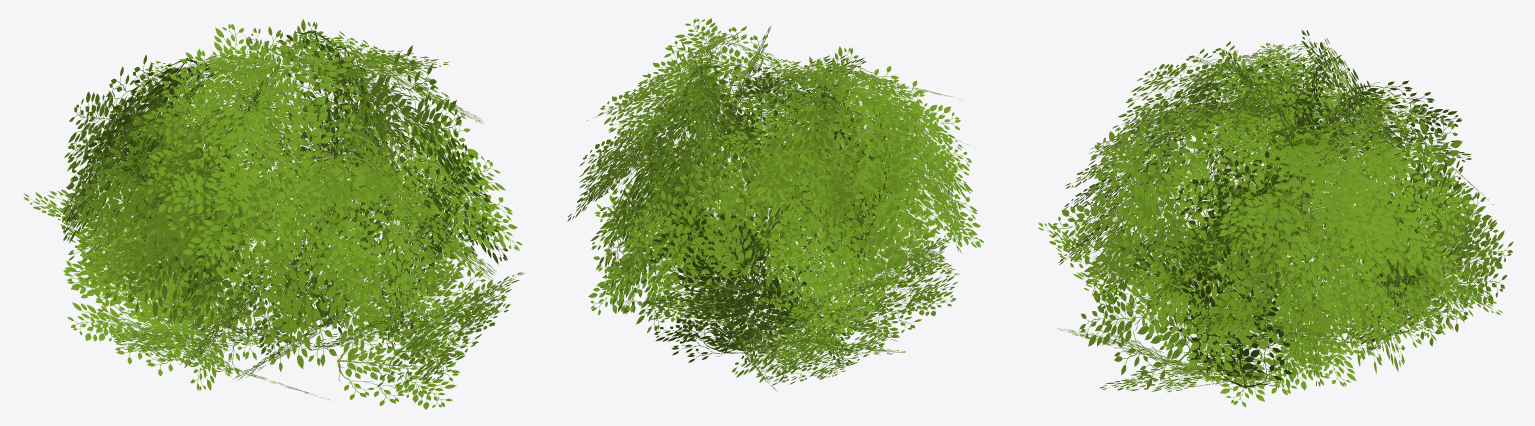
Rendered from cliff_shrub.glb.
3 renders of one model, left to right at view 1: azimuth 30°, elevation 25°; view 2: azimuth 150°, elevation 25°; view 3: azimuth 270°, elevation 25°, orthographic. The views are drawn at different scales.
Parts seen in each view (by area): view 1: leaves_gbushy_0; view 2: leaves_gbushy_0; view 3: leaves_gbushy_0.
Part boxes in pixels (x1,y1,x2,y2): leaves_gbushy_0: (23, 19, 524, 409); leaves_gbushy_0: (567, 18, 984, 391); leaves_gbushy_0: (1038, 29, 1513, 407).
Size of the model in its own units: 1.53 by 1.26 by 1.68.
Materials: 1 (1 with a texture image).
